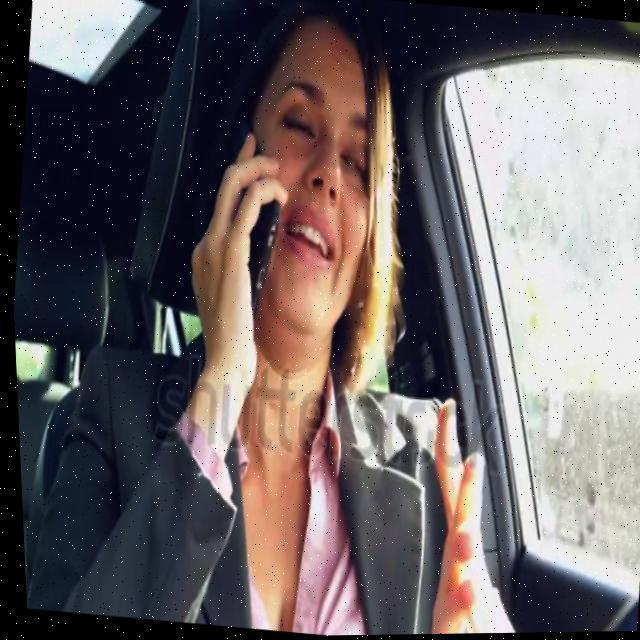PhoneCall: (199, 112, 289, 338)
